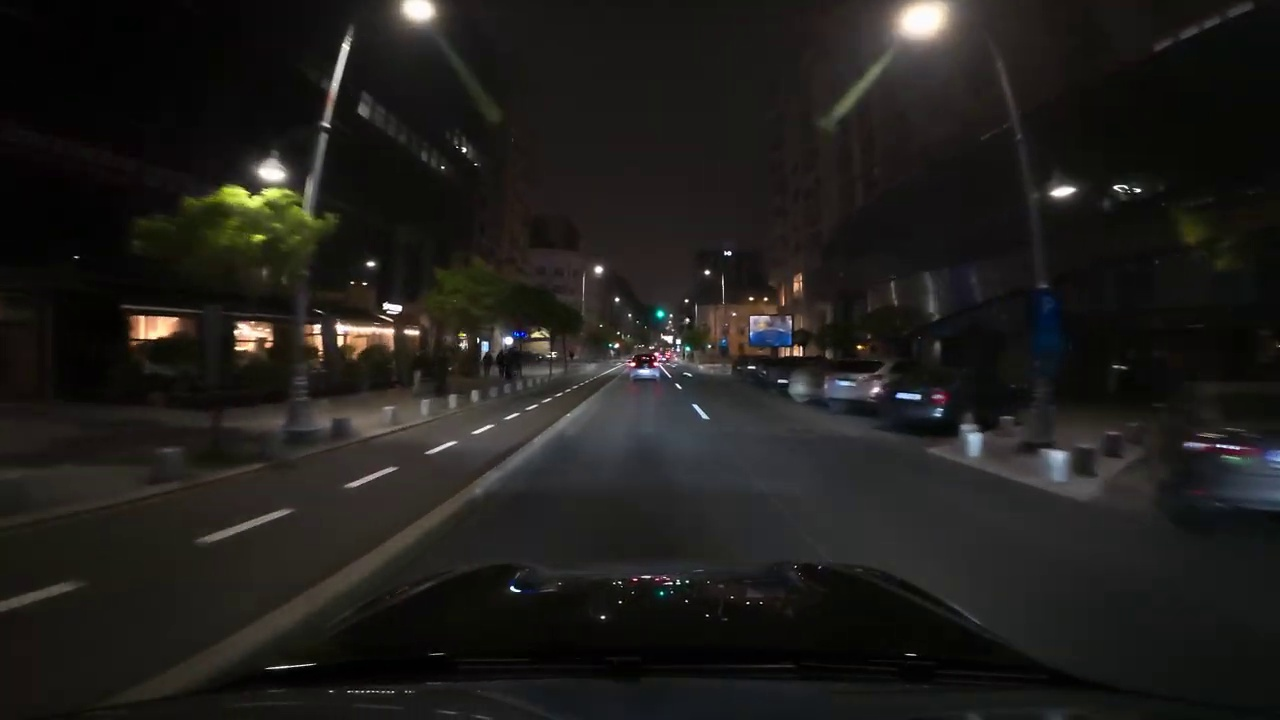acesa: (896, 2, 949, 41), (399, 0, 439, 28), (255, 157, 289, 189), (588, 262, 607, 281)
